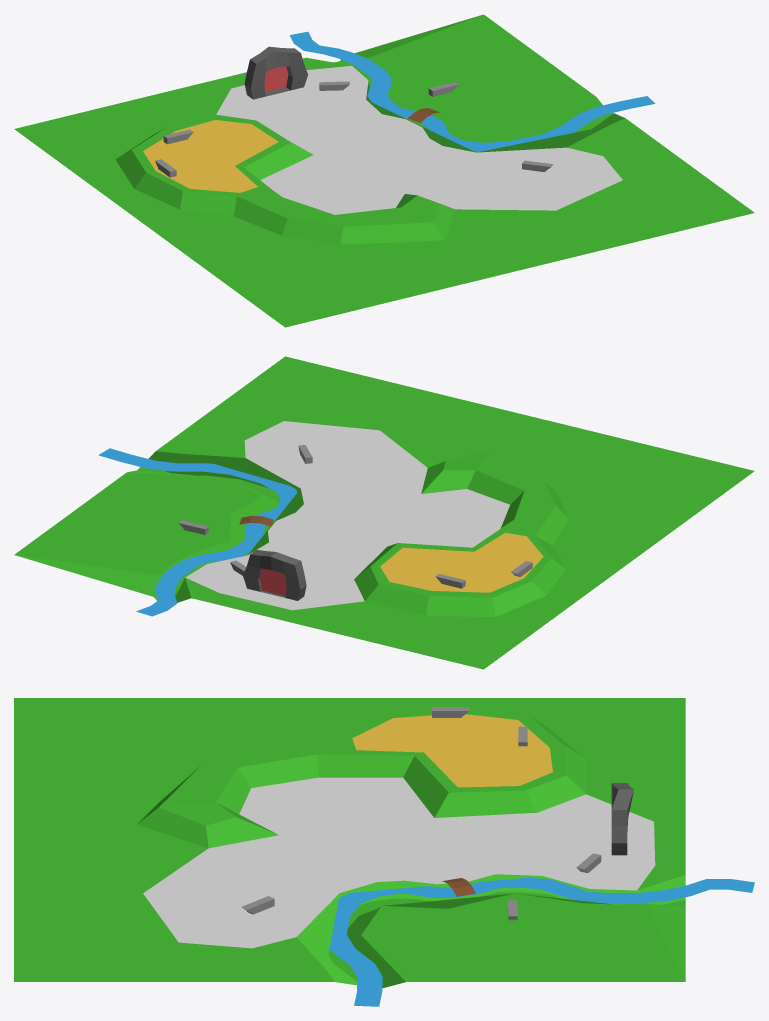
Rendered from city-diy.glb.
3 renders of one model, top to bottom at view 1: azimuth 30°, elevation 25°; view 2: azimuth 150°, elevation 25°; view 3: azimuth 270°, elevation 25°, orthographic. The views are drawn at different scales.
Parts seen in each view (by area): view 1: DIY Ground, River, Portal gate; view 2: DIY Ground, River, Portal gate, Portal vortex; view 3: DIY Ground, River, Portal gate.
Part boxes in pixels (box(x1,y1,x2,y2)): DIY Ground: box(14, 14, 754, 327); River: box(289, 31, 655, 151); Portal gate: box(244, 46, 308, 99); DIY Ground: box(14, 356, 754, 669); River: box(98, 448, 297, 616); Portal gate: box(243, 550, 306, 600); Portal vortex: box(260, 568, 286, 596); DIY Ground: box(14, 698, 685, 988); River: box(329, 877, 754, 1006); Portal gate: box(611, 783, 633, 855).
Bounding box in the file's own units: 108 × 10.64 × 110.
